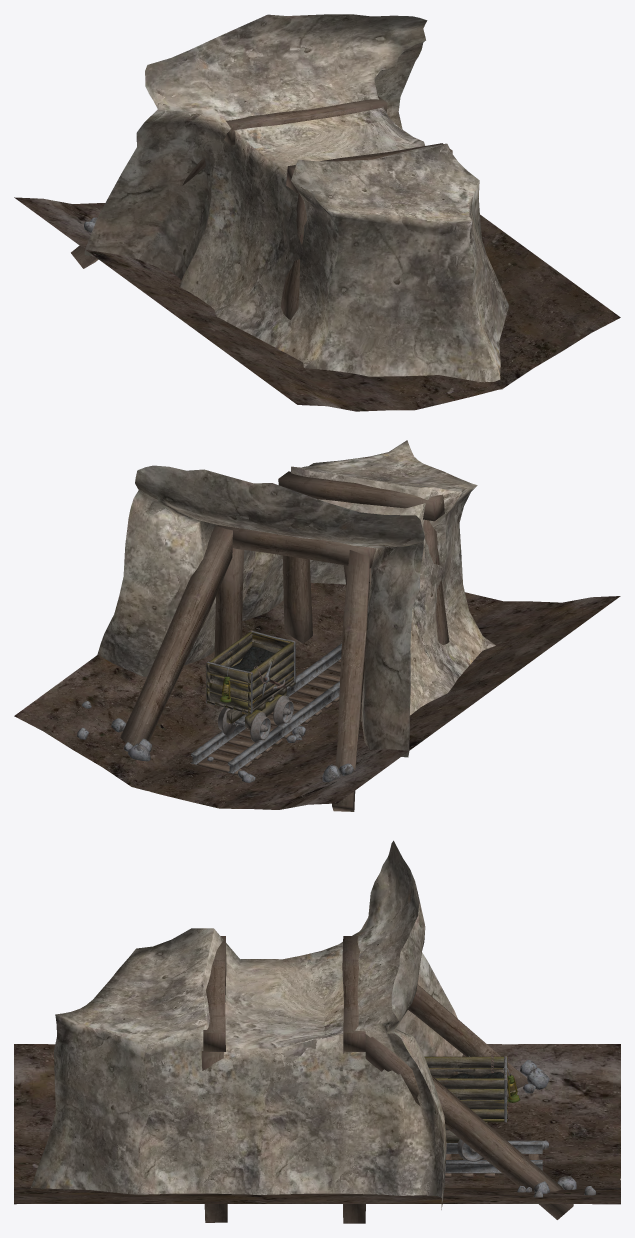
The model's file is boca-mina.glb.
3 views of the same model, one above another, from view 1: azimuth 30°, elevation 25°; view 2: azimuth 150°, elevation 25°; view 3: azimuth 270°, elevation 25° (orthographic). The views are drawn at different scales.
Visible parts, largest first — view 1: coal.lp_lowpoly.environment_0; view 2: coal.lp_lowpoly.environment_0, coal.lp_lowpoly.cart_0; view 3: coal.lp_lowpoly.environment_0, coal.lp_lowpoly.cart_0.
Boxes of the visible parts, x1,y1,x2,y2 form: coal.lp_lowpoly.environment_0: [14, 14, 620, 411]; coal.lp_lowpoly.environment_0: [14, 440, 620, 811]; coal.lp_lowpoly.cart_0: [190, 630, 341, 774]; coal.lp_lowpoly.environment_0: [14, 840, 620, 1223]; coal.lp_lowpoly.cart_0: [424, 1054, 542, 1177].
Bounding box in the file's own units: 7.38 × 5.76 × 11.18.
2 materials, 2 textured.
